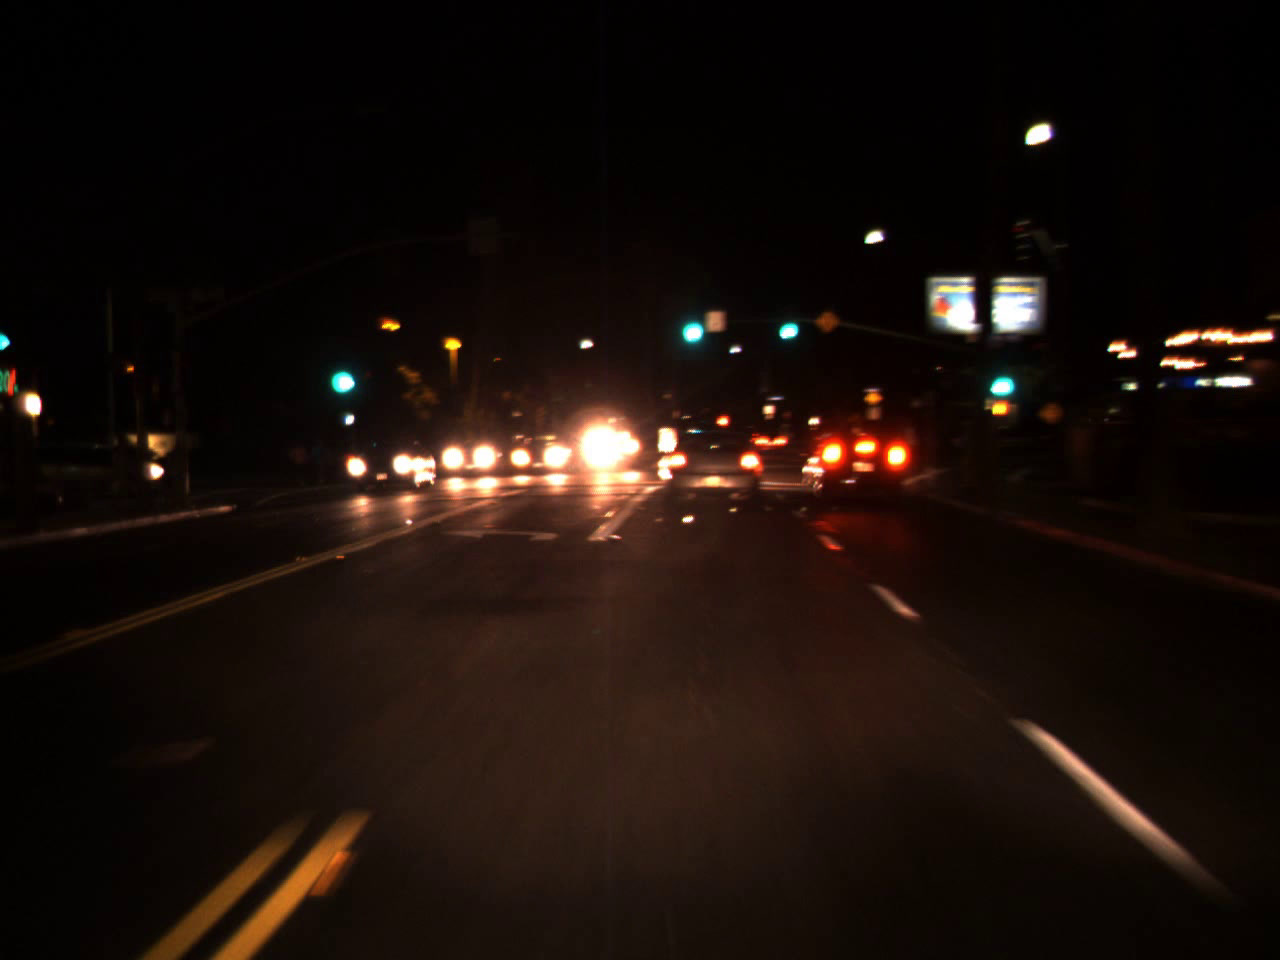go: (323, 342, 357, 402), (981, 352, 1020, 403), (673, 297, 709, 351), (771, 306, 803, 342)
